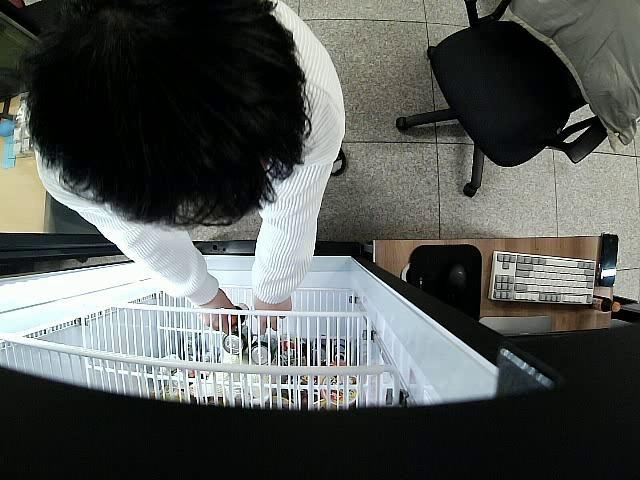17_vita500: (225, 302, 249, 330)
